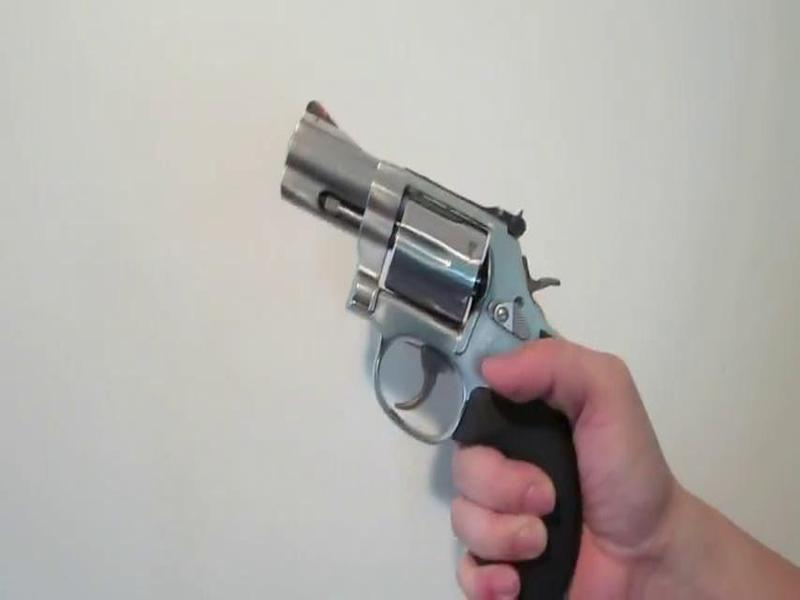Revolver: (262, 81, 617, 504)
